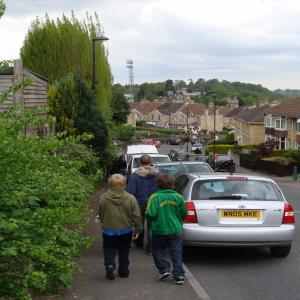Vehicle-registration-plate: (223, 210, 262, 218)
